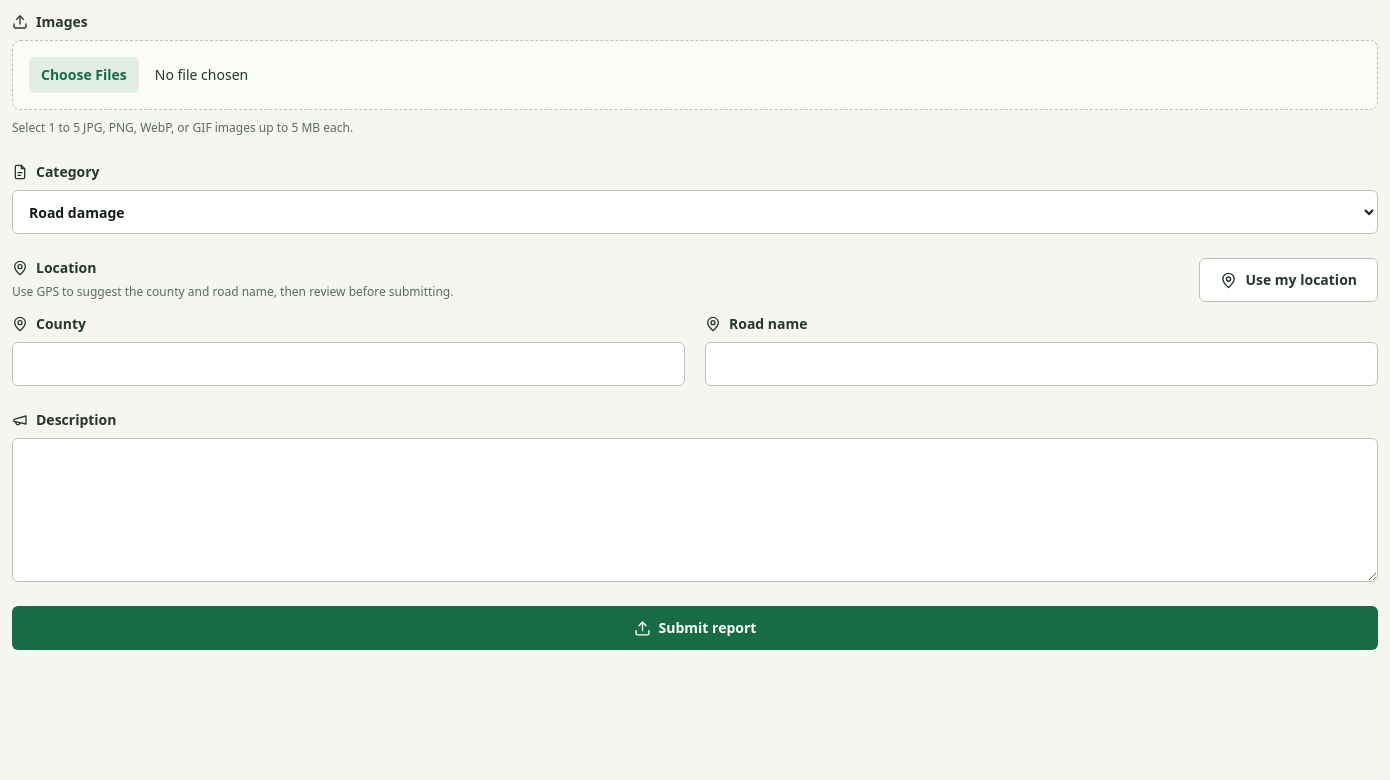
Test case: ReportForm › does not overwrite user-entered location fields with partial lookup results
Step 1. Type "Kiambu" into the field labelled "County" → (348, 364), box left=12, top=342, right=685, bottom=386
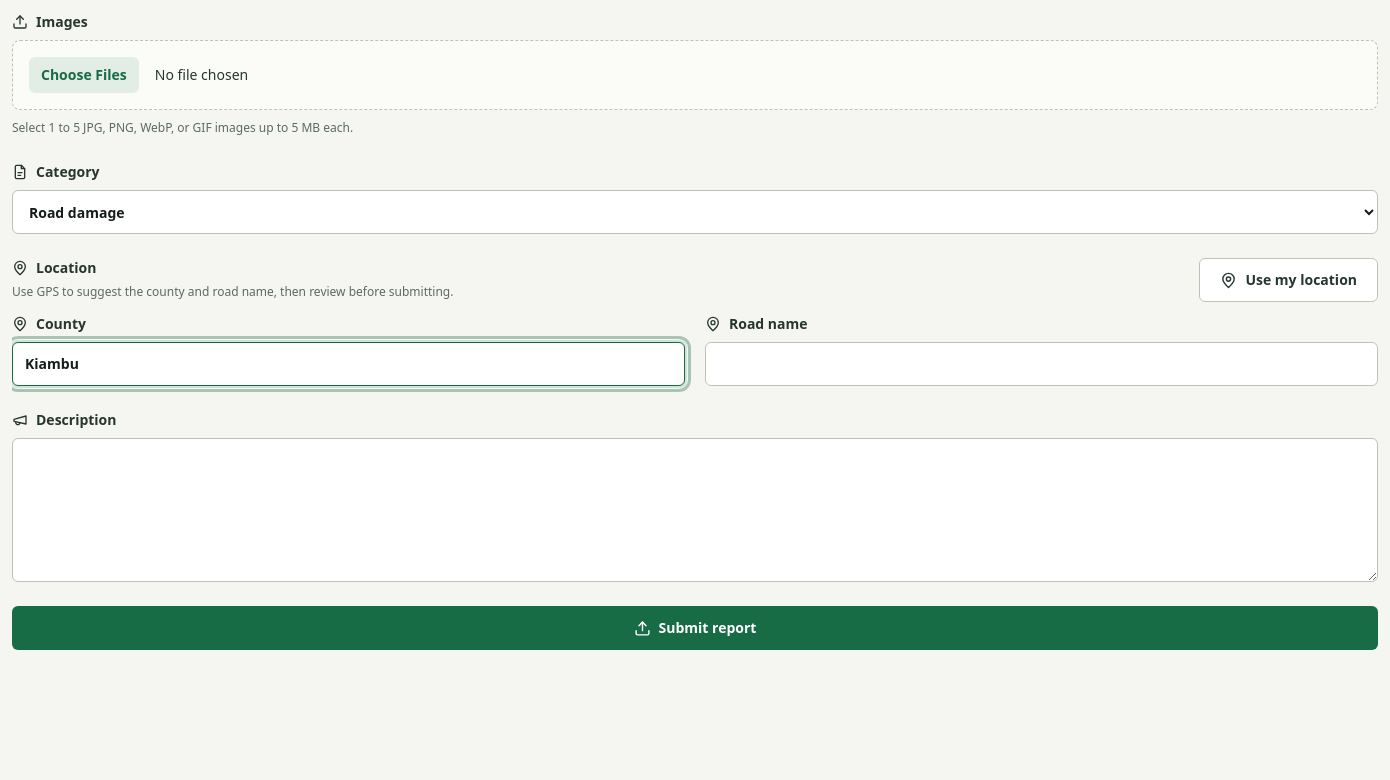
Step 2. Type "Manual Road" into the field labelled "Road name" → (1042, 364), box left=705, top=342, right=1378, bottom=386
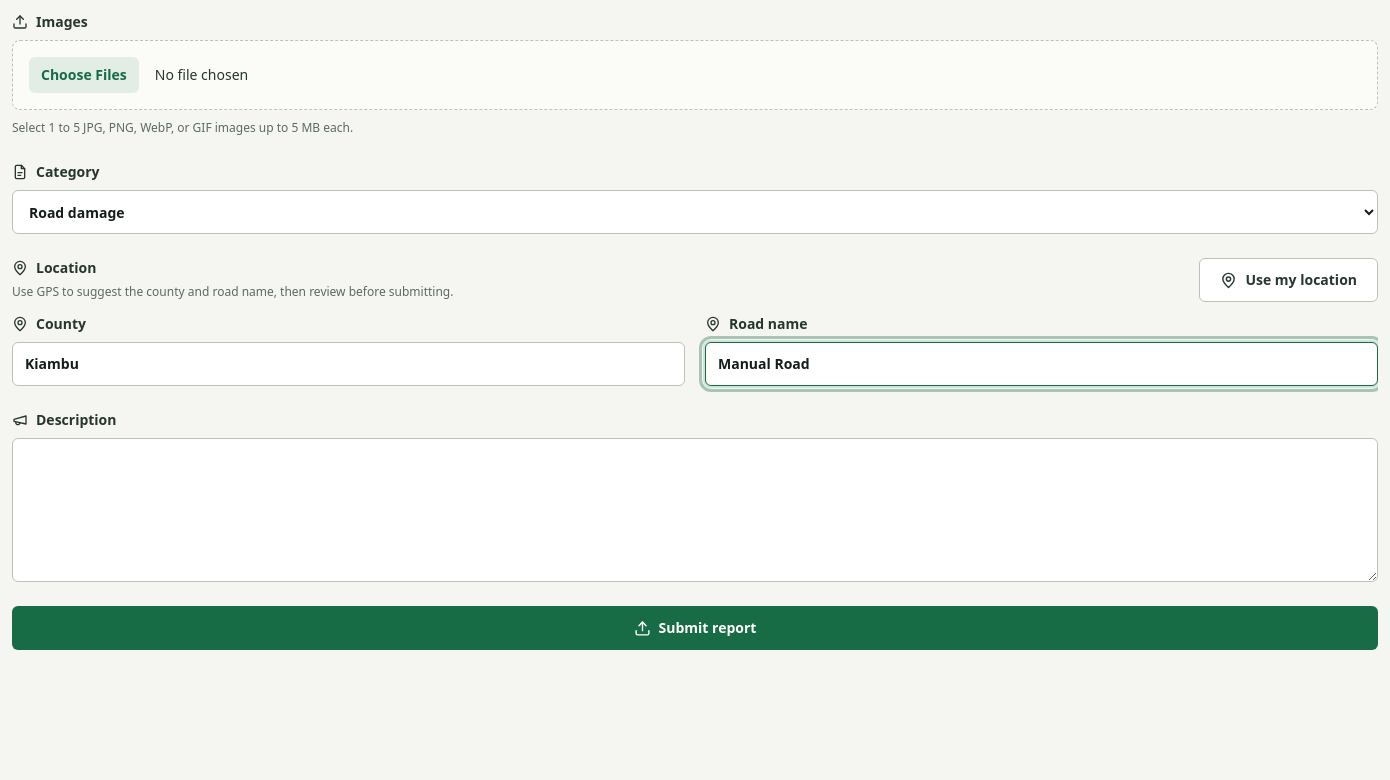
Step 3. Click the button "Use my location" → (1289, 280), box left=1199, top=258, right=1378, bottom=302
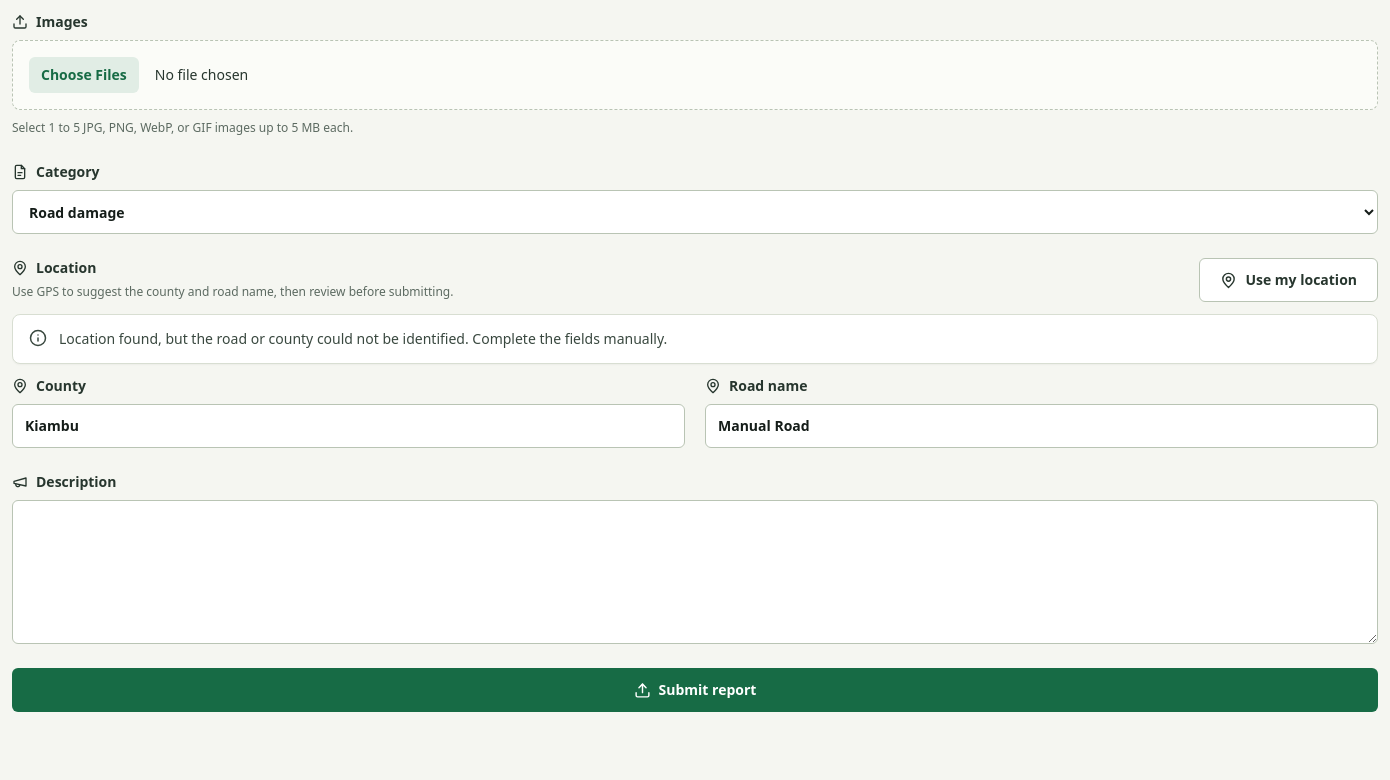
Expected: the text "Location found, but the road or county could not be identified. Complete the fields manually." is shown, left=59, top=329, right=667, bottom=348
